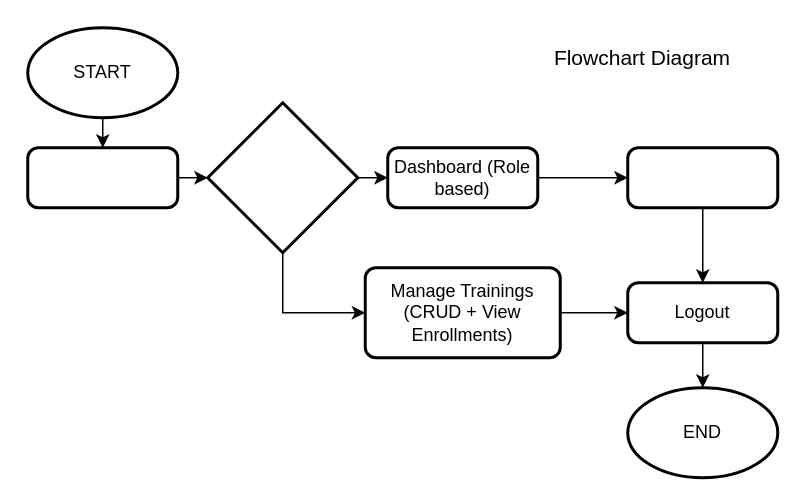
This 804x504 diagram has some shape labels left out. The shapes that lost their labels are listed below. From the top down, each one's centre as x and y in pixels, then its label:
pixel 102 177: Login / Register
pixel 282 177: Valid JWT
pixel 702 177: View Trainings Enroll / Cancel
